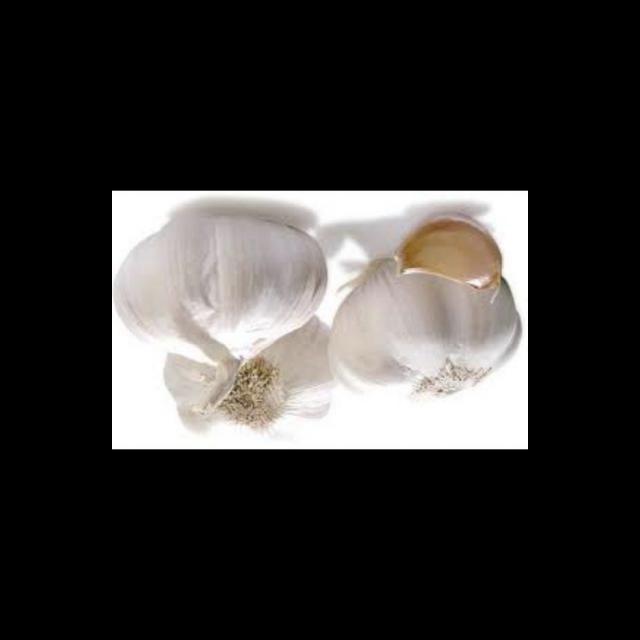garlic: (112, 204, 332, 380), (321, 241, 524, 414), (148, 321, 344, 450), (384, 213, 506, 290)
